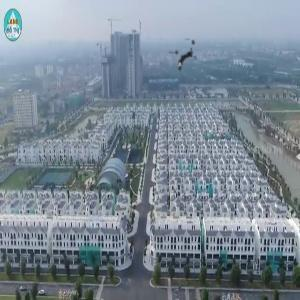drone: (155, 26, 215, 86)
